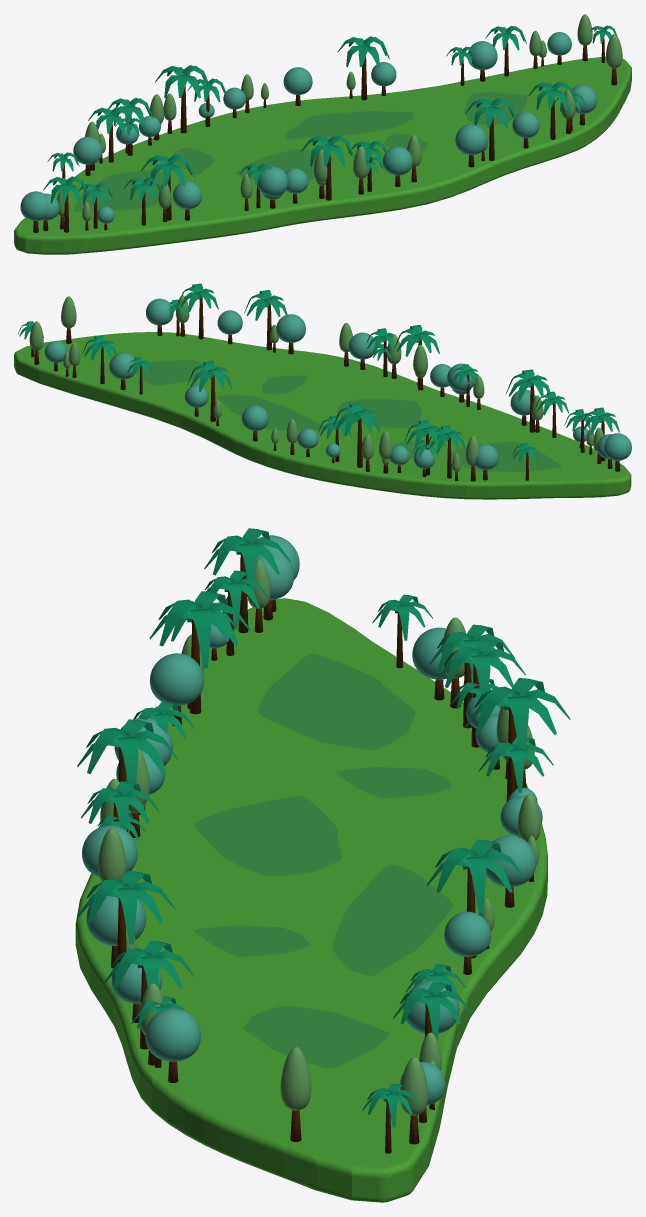
The model's file is land.glb.
The picture shows the model from 3 angles, top to bottom: view 1: azimuth 30°, elevation 25°; view 2: azimuth 150°, elevation 25°; view 3: azimuth 270°, elevation 25°; orthographic projection. The views are drawn at different scales.
Parts seen in each view (by area): view 1: 平面, 贝塞尔曲线.005, 贝塞尔曲线.001, 贝塞尔曲线.007, 贝塞尔曲线.004, 柱体.021, 柱体.041, 柱体.013, 柱体.033, 柱体.023, 柱体.034, 柱体.037 (+33 smaller); view 2: 平面, 贝塞尔曲线.004, 贝塞尔曲线.005, 贝塞尔曲线.001, 贝塞尔曲线.007, 柱体.021, 柱体.023, 柱体.013, 柱体.033, 柱体.034, 柱体.037, 柱体.041 (+34 smaller); view 3: 平面, 贝塞尔曲线.001, 贝塞尔曲线.004, 贝塞尔曲线.005, 贝塞尔曲线.007, 柱体.021, 柱体.023, 柱体.033, 柱体.013, 柱体.041, 贝塞尔曲线.006, 贝塞尔曲线.002 (+23 smaller).
Boxes of the visible parts, bbox=[...] form: 平面: bbox=[14, 56, 631, 254]; 贝塞尔曲线.005: bbox=[285, 111, 413, 139]; 贝塞尔曲线.001: bbox=[73, 171, 163, 211]; 贝塞尔曲线.007: bbox=[464, 92, 527, 124]; 贝塞尔曲线.004: bbox=[235, 149, 333, 181]; 柱体.021: bbox=[155, 65, 210, 133]; 柱体.041: bbox=[301, 135, 354, 200]; 柱体.013: bbox=[337, 36, 389, 100]; 柱体.033: bbox=[465, 97, 516, 160]; 柱体.023: bbox=[141, 154, 194, 220]; 柱体.034: bbox=[455, 124, 487, 167]; 柱体.037: bbox=[528, 81, 576, 139]; 平面: bbox=[14, 332, 631, 499]; 贝塞尔曲线.004: bbox=[336, 398, 421, 428]; 贝塞尔曲线.005: bbox=[216, 394, 323, 430]; 贝塞尔曲线.001: bbox=[451, 441, 561, 472]; 贝塞尔曲线.007: bbox=[136, 360, 204, 385]; 柱体.021: bbox=[333, 402, 380, 467]; 柱体.023: bbox=[506, 369, 550, 432]; 柱体.013: bbox=[187, 360, 232, 421]; 柱体.033: bbox=[244, 290, 287, 350]; 柱体.034: bbox=[276, 314, 305, 354]; 柱体.037: bbox=[180, 283, 218, 339]; 柱体.041: bbox=[394, 324, 439, 386]; 平面: bbox=[75, 598, 547, 1202]; 贝塞尔曲线.001: bbox=[257, 653, 415, 749]; 贝塞尔曲线.004: bbox=[194, 796, 341, 876]; 贝塞尔曲线.005: bbox=[332, 864, 452, 975]; 贝塞尔曲线.007: bbox=[243, 1005, 388, 1068]; 柱体.021: bbox=[465, 678, 570, 801]; 柱体.023: bbox=[149, 591, 251, 714]; 柱体.033: bbox=[78, 871, 175, 962]; 柱体.013: bbox=[427, 839, 524, 958]; 柱体.041: bbox=[77, 719, 177, 831]; 贝塞尔曲线.006: bbox=[193, 925, 309, 956]; 贝塞尔曲线.002: bbox=[335, 767, 451, 798].
Size of the model in its own units: 135 by 16.72 by 48.98.
